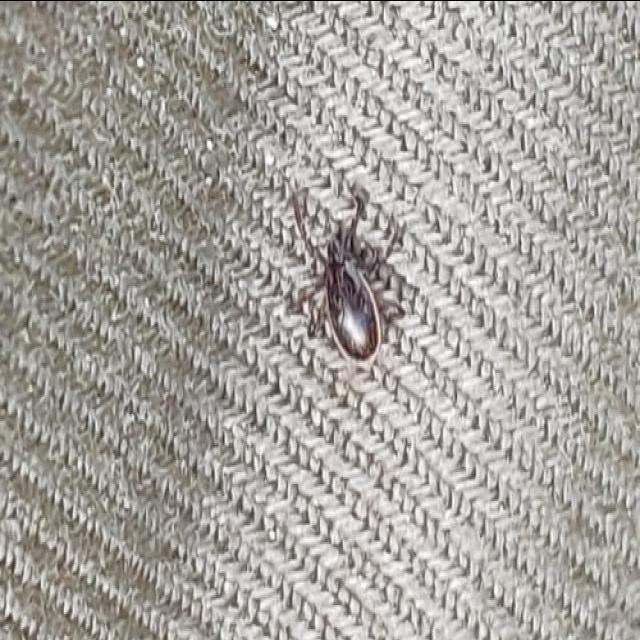Ixodes Ricinus-M: (307, 195, 403, 365)
